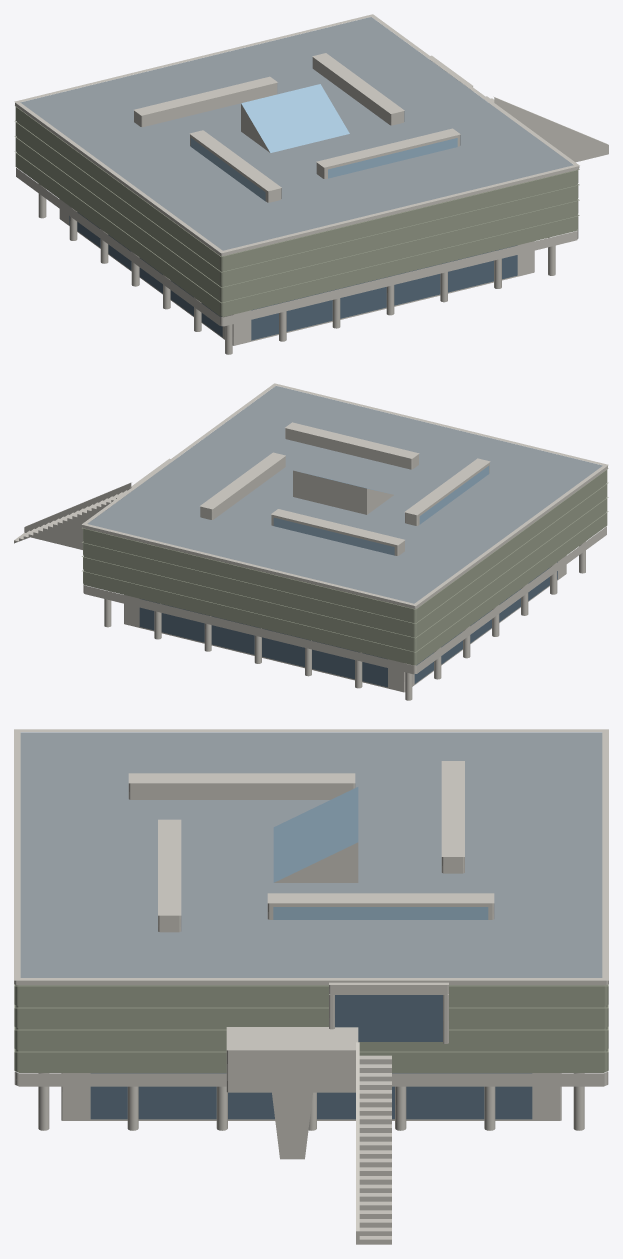
Rendered from tokyo-western-art-museum.glb.
3 renders of one model, top to bottom at view 1: azimuth 30°, elevation 25°; view 2: azimuth 150°, elevation 25°; view 3: azimuth 270°, elevation 25°, orthographic. The views are drawn at different scales.
Visible parts, largest first — view 1: National Museum of Western Art; view 2: National Museum of Western Art; view 3: National Museum of Western Art.
Part boxes in pixels (x1=…): National Museum of Western Art: x1=14, y1=14, x2=608, y2=354; National Museum of Western Art: x1=14, y1=383, x2=608, y2=700; National Museum of Western Art: x1=14, y1=729, x2=608, y2=1244.
Size of the model in its own units: 57.44 by 15.16 by 40.68.
